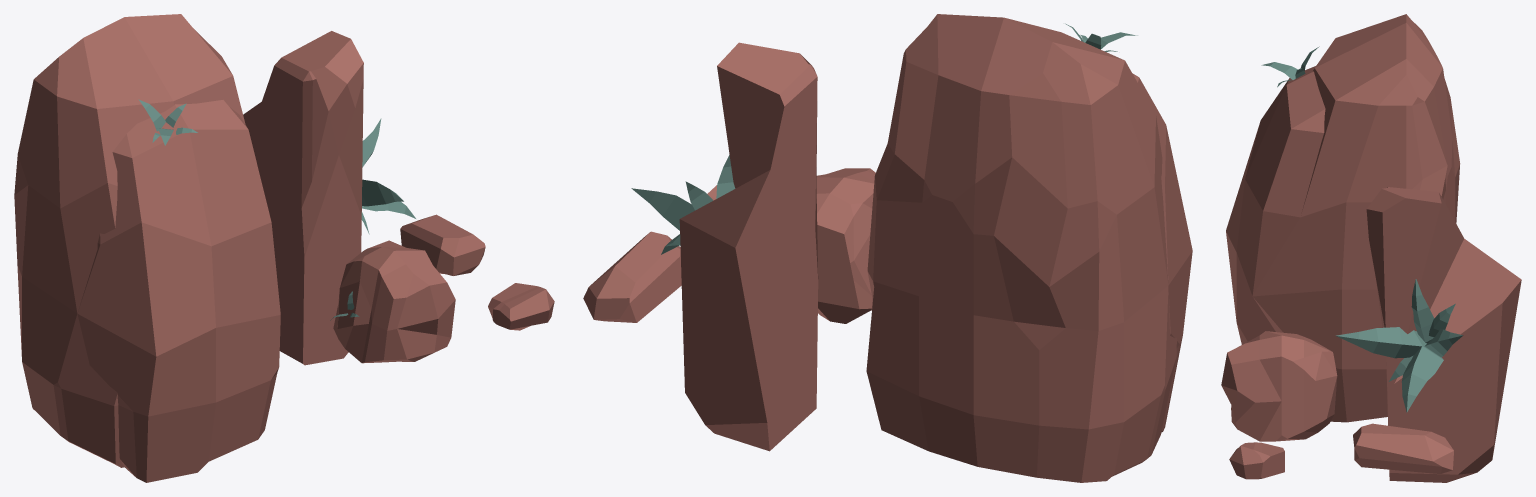
The model's file is rocks.glb.
3 renders of one model, left to right at view 1: azimuth 30°, elevation 25°; view 2: azimuth 150°, elevation 25°; view 3: azimuth 270°, elevation 25°, orthographic. The views are drawn at different scales.
Parts seen in each view (by area): view 1: Rock5_4, Rock4_3, Rock1_0, Rock2_1, Rock3_2, Plant1_5, Plant2_6; view 2: Rock5_4, Rock4_3, Rock1_0, Rock2_1, Plant1_5; view 3: Rock5_4, Rock4_3, Rock1_0, Plant1_5, Rock2_1, Rock3_2, Plant2_6.
Part boxes in pixels (x1,y1,x2,y2): Rock5_4: (14,14,280,482); Rock4_3: (243,31,363,365); Rock1_0: (333,240,455,363); Rock2_1: (400,214,485,275); Rock3_2: (488,283,554,330); Plant1_5: (361,118,415,234); Plant2_6: (138,99,197,145); Rock5_4: (866,14,1192,482); Rock4_3: (679,42,818,451); Rock1_0: (816,168,875,323); Rock2_1: (583,231,681,322); Plant1_5: (631,155,735,254); Rock5_4: (1226,14,1460,422); Rock4_3: (1366,187,1521,482); Rock1_0: (1221,331,1337,441); Plant1_5: (1335,279,1463,412); Rock2_1: (1353,423,1453,473); Rock3_2: (1229,442,1284,479); Plant2_6: (1261,46,1319,87).
Bounding box in the file's own units: 10.87 × 9.19 × 6.77.
